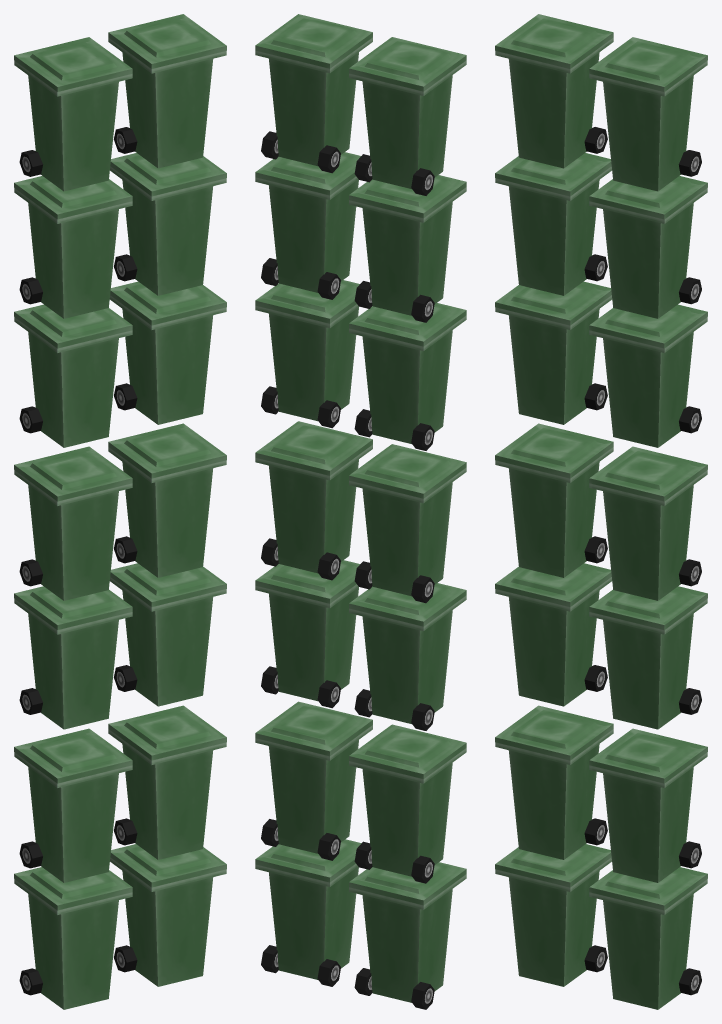
Rendered from Trash_Cans.fbx.
3 renders of one model, left to right at view 1: azimuth 30°, elevation 25°; view 2: azimuth 150°, elevation 25°; view 3: azimuth 330°, elevation 25°, orthographic.
Parts seen in each view (by area): view 1: Trash_Cans; view 2: Trash_Cans; view 3: Trash_Cans.
Boxes of the visible parts, box(x1,y1,x2,y2) form: Trash_Cans: box(14, 14, 226, 1009); Trash_Cans: box(255, 14, 466, 1009); Trash_Cans: box(495, 14, 707, 1009).
Bounding box in the file's own units: 1.54 × 8.17 × 0.6848.
